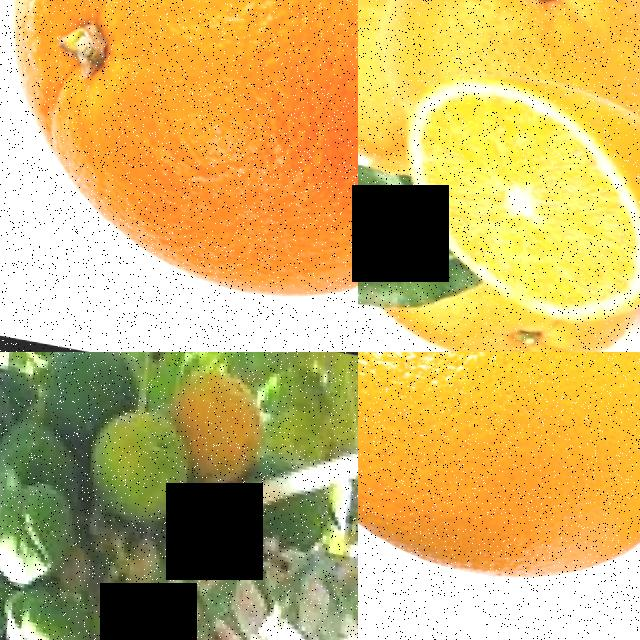orange: (0, 0, 358, 335), (358, 352, 640, 616), (405, 57, 640, 330), (370, 0, 640, 107), (393, 279, 627, 352)
pawpaw: (80, 401, 185, 513), (169, 352, 266, 470), (0, 464, 70, 591), (29, 352, 128, 432), (0, 577, 91, 640)
